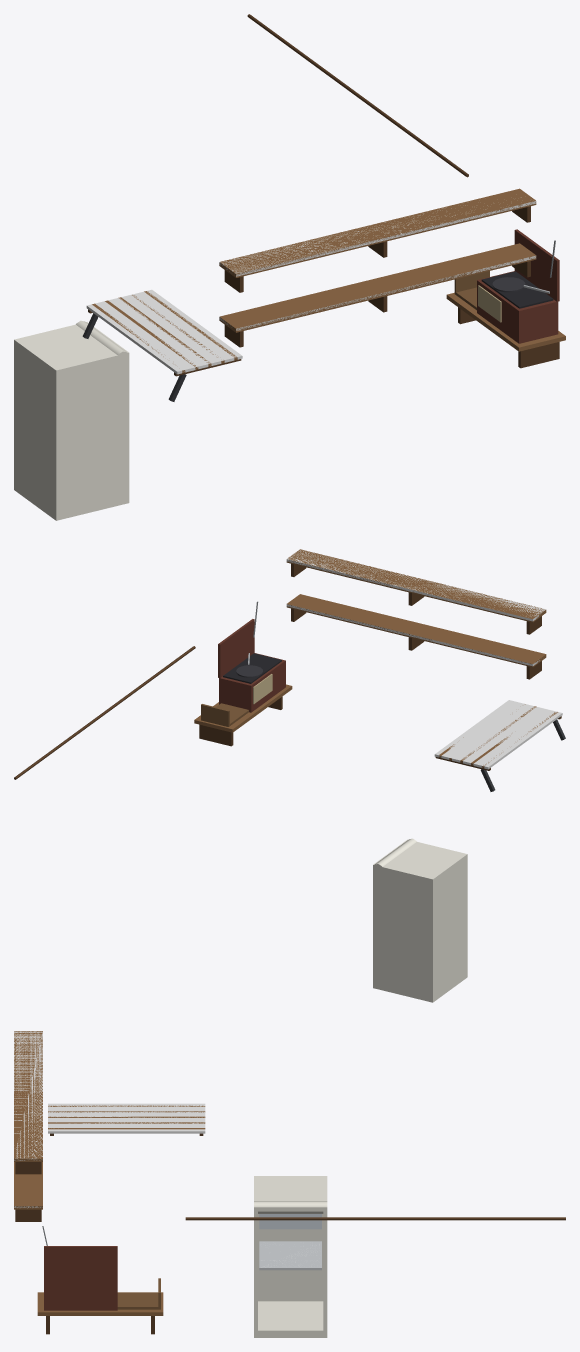
The model's file is appliances.glb.
3 renders of one model, top to bottom at view 1: azimuth 30°, elevation 25°; view 2: azimuth 150°, elevation 25°; view 3: azimuth 270°, elevation 25°, orthographic. The views are drawn at different scales.
Parts seen in each view (by area): view 1: #e8e6dc, #8a6440, surface_dryer, #6a3a2e, #5a3e26, surface_trophy_2, #8a6440_noshadow, #5a3e26_noshadow, #2a2a2e_noshadow, surface_trophy_1, #7a5a3a; view 2: #e8e6dc, #8a6440, surface_dryer, #6a3a2e, surface_trophy_2, #5a3e26, #5a3e26_noshadow, #7a5a3a, #2a2a2e_noshadow, surface_trophy_1; view 3: #e8e6dc, #8a6440, #6a3a2e, surface_dryer, surface_trophy_2, #c8ccd0 metal 0.5 rough 0.4_noshadow, #5a3e26_noshadow, #8a6440_noshadow, #d0d8e0_noshadow, #5a3e26, #7a5a3a, #e8e6dc_noshadow.
Part boxes in pixels (box(x1,y1,x2,y2)): #e8e6dc: box(14, 322, 129, 520); #8a6440: box(219, 188, 565, 351); surface_dryer: box(86, 289, 242, 374); #6a3a2e: box(477, 229, 559, 343); #5a3e26: box(224, 206, 559, 368); surface_trophy_2: box(219, 197, 536, 276); #8a6440_noshadow: box(92, 291, 237, 373); #5a3e26_noshadow: box(88, 14, 468, 376); #2a2a2e_noshadow: box(481, 271, 553, 308); surface_trophy_1: box(219, 256, 536, 330); #7a5a3a: box(454, 271, 489, 310); #e8e6dc: box(373, 839, 467, 1002); #8a6440: box(194, 549, 546, 732); surface_dryer: box(434, 700, 562, 769); #6a3a2e: box(218, 619, 285, 712); surface_trophy_2: box(286, 550, 545, 621); #5a3e26: box(199, 563, 541, 746); #5a3e26_noshadow: box(14, 646, 561, 779); #7a5a3a: box(201, 703, 248, 726); #2a2a2e_noshadow: box(223, 653, 281, 683); surface_trophy_1: box(286, 604, 539, 666); #e8e6dc: box(254, 1176, 327, 1337); #8a6440: box(14, 1031, 163, 1315); #6a3a2e: box(44, 1246, 117, 1310); surface_dryer: box(48, 1103, 205, 1133); surface_trophy_2: box(14, 1031, 42, 1160); #c8ccd0 metal 0.5 rough 0.4_noshadow: box(259, 1241, 321, 1270); #5a3e26_noshadow: box(50, 1133, 565, 1220); #8a6440_noshadow: box(48, 1105, 205, 1129); #d0d8e0_noshadow: box(259, 1214, 321, 1229); #5a3e26: box(15, 1162, 154, 1334); #7a5a3a: box(117, 1278, 160, 1309); #e8e6dc_noshadow: box(254, 1201, 327, 1213).
Size of the model in its own units: 2.97 by 2.47 by 4.21.
